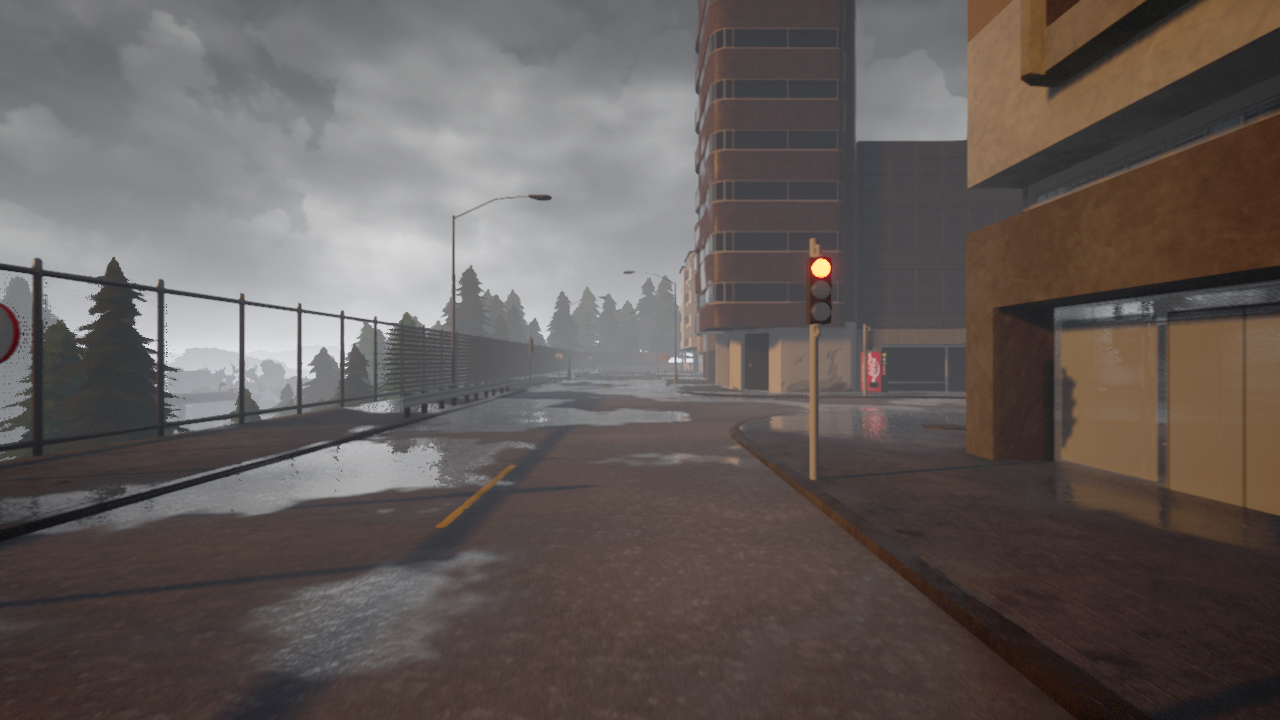red: (805, 255, 834, 324)
